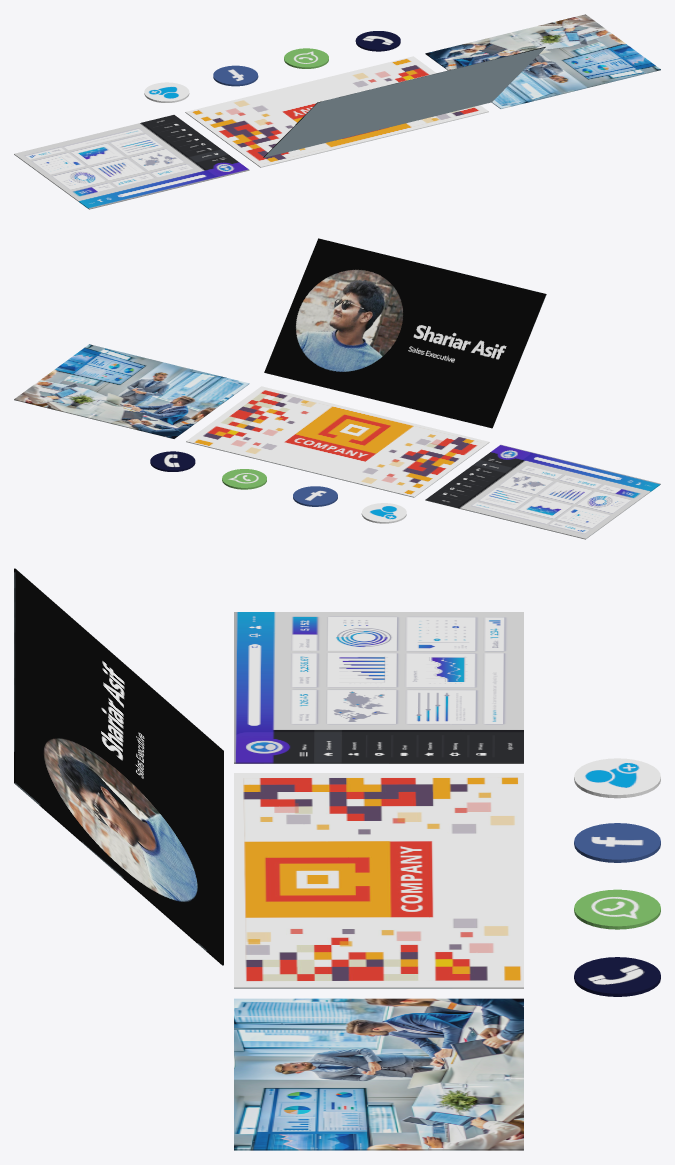
The model's file is business-model.glb.
3 renders of one model, top to bottom at view 1: azimuth 30°, elevation 25°; view 2: azimuth 150°, elevation 25°; view 3: azimuth 270°, elevation 25°, orthographic. The views are drawn at different scales.
Visible parts, largest first — view 1: t1 o1; view 2: t1 o1; view 3: t1 o1.
Part boxes in pixels (x1,y1,x2,y2): t1 o1: [14, 14, 660, 209]; t1 o1: [14, 238, 660, 539]; t1 o1: [14, 568, 660, 1150].
Size of the model in its own units: 0.2227 by 0.0399 by 0.1134.
Materials: 1 (1 with a texture image).
